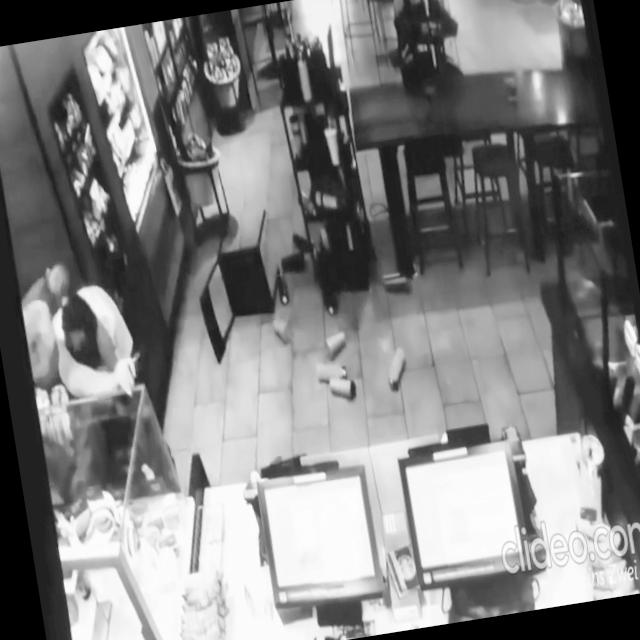gun: (115, 349, 156, 399)
person: (21, 288, 122, 512)
person with a gun: (42, 271, 183, 510)
